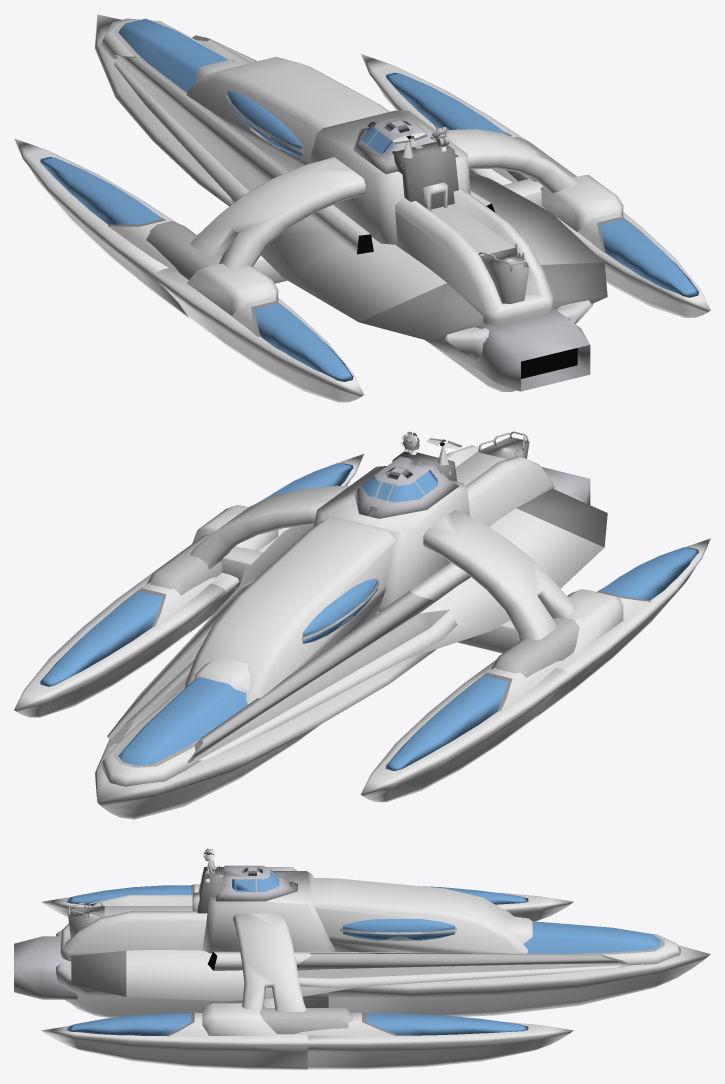
File: speedboat.glb
3 renders of one model, top to bottom at view 1: azimuth 30°, elevation 25°; view 2: azimuth 150°, elevation 25°; view 3: azimuth 270°, elevation 25°, orthographic. The views are drawn at different scales.
Parts seen in each view (by area): view 1: Shape_IndexedFaceSet.062, Shape_IndexedFaceSet.031, Shape_IndexedFaceSet.044, Shape_IndexedFaceSet.067, Shape_IndexedFaceSet.028, Shape_IndexedFaceSet.066, Shape_IndexedFaceSet.009, Shape_IndexedFaceSet.065, Shape_IndexedFaceSet.002, Shape_IndexedFaceSet.045, Shape_IndexedFaceSet.063, Shape_IndexedFaceSet.029 (+23 smaller); view 2: Shape_IndexedFaceSet.031, Shape_IndexedFaceSet.028, Shape_IndexedFaceSet.001, Shape_IndexedFaceSet.067, Shape_IndexedFaceSet.048, Shape_IndexedFaceSet.065, Shape_IndexedFaceSet.062, Shape_IndexedFaceSet.029, Shape_IndexedFaceSet.009, Shape_IndexedFaceSet.025, Shape_IndexedFaceSet.050, Shape_IndexedFaceSet.044 (+24 smaller); view 3: Shape_IndexedFaceSet.001, Shape_IndexedFaceSet.031, Shape_IndexedFaceSet.048, Shape_IndexedFaceSet.049, Shape_IndexedFaceSet.028, Shape_IndexedFaceSet.044, Shape_IndexedFaceSet.045, Shape_IndexedFaceSet.050, Shape_IndexedFaceSet.009, Shape_IndexedFaceSet, Shape_IndexedFaceSet.025, Shape_IndexedFaceSet.029 (+19 smaller).
Boxes of the visible parts, x1,y1,x2,y2 form: Shape_IndexedFaceSet.062: (231,198,446,322); Shape_IndexedFaceSet.031: (187,57,389,171); Shape_IndexedFaceSet.044: (395,187,554,325); Shape_IndexedFaceSet.067: (190,157,365,268); Shape_IndexedFaceSet.028: (115,37,312,218); Shape_IndexedFaceSet.066: (153,268,364,402); Shape_IndexedFaceSet.009: (308,110,470,244); Shape_IndexedFaceSet.065: (14,138,188,317); Shape_IndexedFaceSet.002: (469,307,589,391); Shape_IndexedFaceSet.045: (469,171,603,264); Shape_IndexedFaceSet.063: (359,283,483,340); Shape_IndexedFaceSet.029: (114,41,491,254); Shape_IndexedFaceSet.031: (184,517,395,704); Shape_IndexedFaceSet.028: (108,591,449,765); Shape_IndexedFaceSet.001: (94,649,436,819); Shape_IndexedFaceSet.067: (423,509,576,641); Shape_IndexedFaceSet.048: (14,572,225,717); Shape_IndexedFaceSet.065: (361,659,571,802); Shape_IndexedFaceSet.062: (408,508,604,658); Shape_IndexedFaceSet.029: (107,562,470,760); Shape_IndexedFaceSet.009: (313,466,469,611); Shape_IndexedFaceSet.025: (118,677,248,765); Shape_IndexedFaceSet.050: (190,485,348,569); Shape_IndexedFaceSet.044: (446,445,554,526); Shape_IndexedFaceSet.001: (328,945,710,1016); Shape_IndexedFaceSet.031: (312,878,527,953); Shape_IndexedFaceSet.048: (307,1022,573,1069); Shape_IndexedFaceSet.049: (41,1026,307,1069); Shape_IndexedFaceSet.028: (296,951,627,978); Shape_IndexedFaceSet.044: (60,895,207,961); Shape_IndexedFaceSet.045: (126,950,360,1001); Shape_IndexedFaceSet.050: (233,913,306,1011); Shape_IndexedFaceSet.009: (202,871,335,953); Shape_IndexedFaceSet: (56,929,328,1018); Shape_IndexedFaceSet.025: (523,921,660,953); Shape_IndexedFaceSet.029: (213,951,620,988).
Bounding box in the file's own units: 60.66 × 29.1 × 115.
